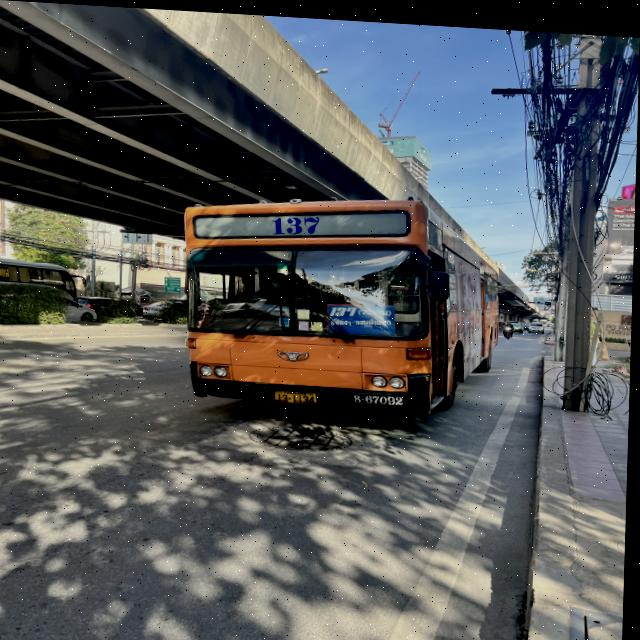BMTA-bus: (180, 184, 502, 419)
Bus-Line-Number: (266, 209, 326, 234)
Destination-Sign-Normal: (329, 296, 400, 329)
